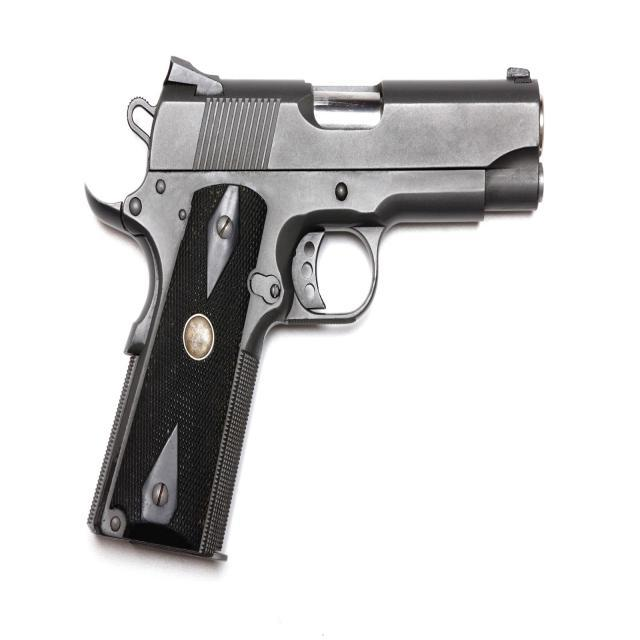Pistol: (71, 39, 567, 580)
